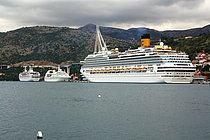Ship: (77, 41, 198, 86)
